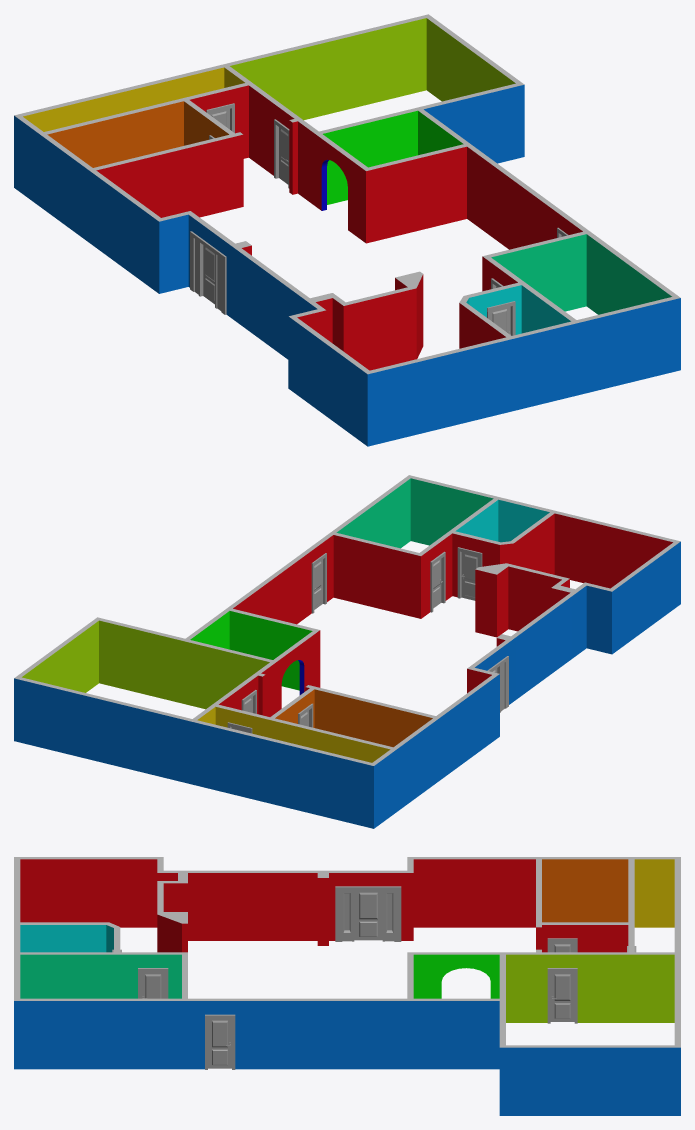
File: SHITFARTPOPO.fbx
3 renders of one model, top to bottom at view 1: azimuth 30°, elevation 25°; view 2: azimuth 150°, elevation 25°; view 3: azimuth 270°, elevation 25°, orthographic. The views are drawn at different scales.
Visible parts, largest first — view 1: polySurface22, doorframe; view 2: polySurface22, door; view 3: polySurface22, door (×3), doorframe (×3), door7.
Boxes of the visible parts, bbox=[...] form: polySurface22: bbox=[14, 14, 680, 446]; doorframe: bbox=[190, 231, 226, 314]; polySurface22: bbox=[14, 475, 680, 828]; door: bbox=[461, 552, 479, 600]; polySurface22: bbox=[14, 857, 680, 1115]; door (×3): bbox=[141, 972, 574, 1068]; doorframe (×3): bbox=[205, 886, 577, 1069]; door7: bbox=[354, 890, 382, 940].
Bounding box in the file's own units: 1950 × 325 × 2882.
